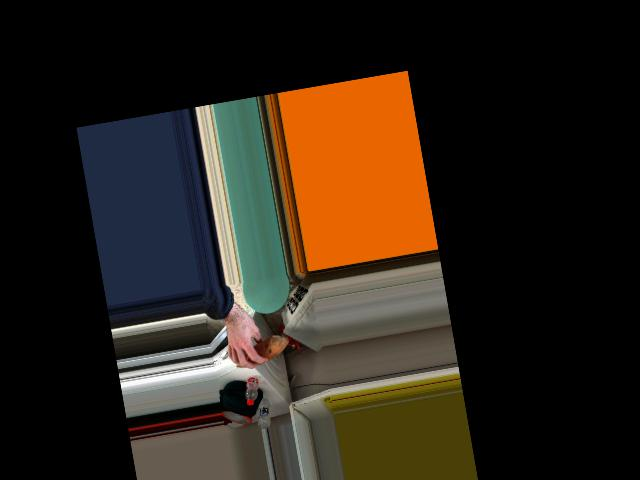sweet_potato: (229, 335, 290, 370)
